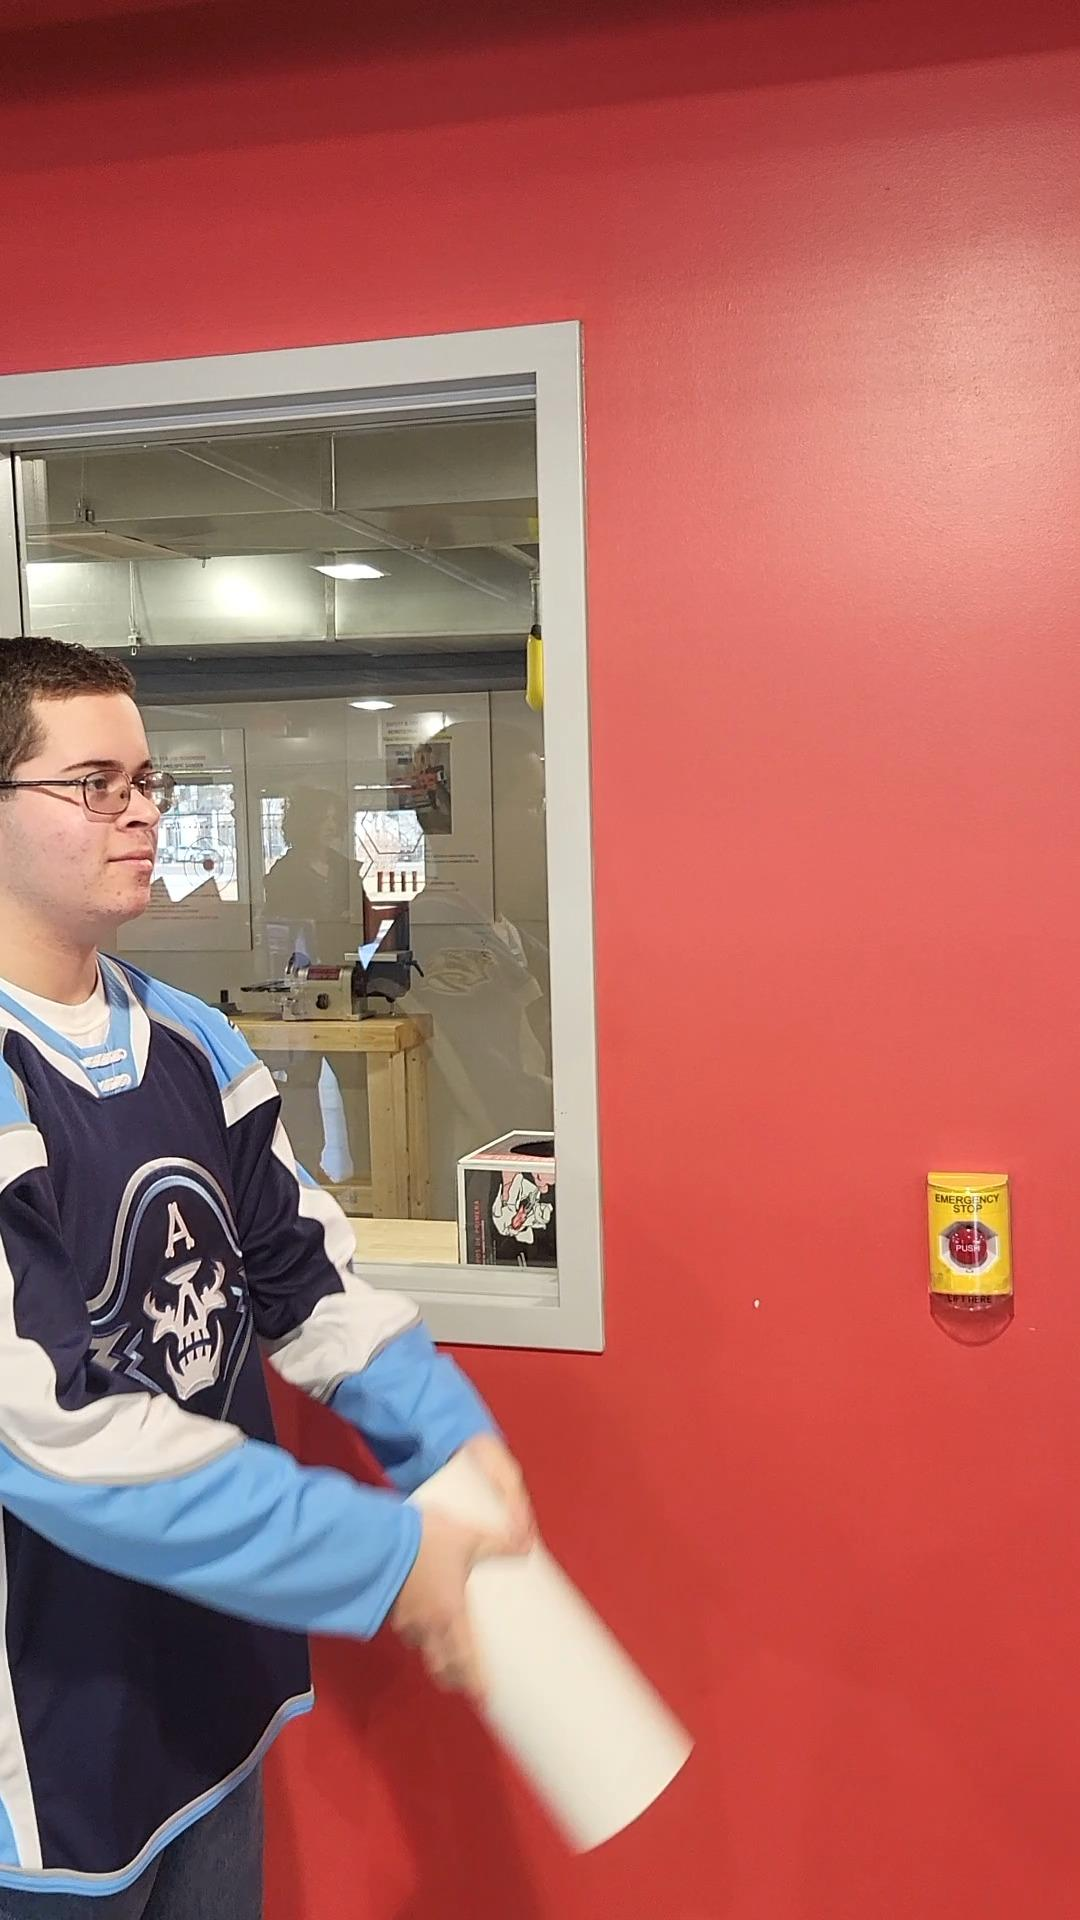coral: (386, 1444, 703, 1853)
